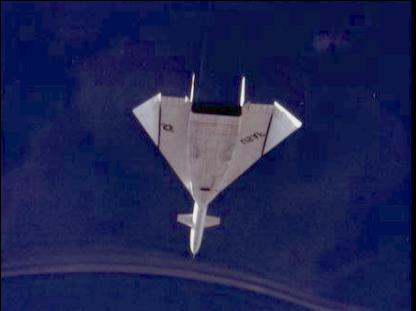U2: (132, 72, 302, 258)
